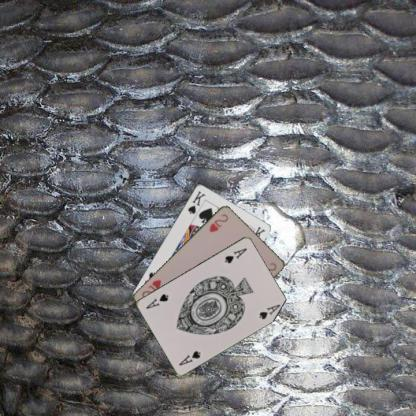2h: (206, 210, 230, 233)
As: (176, 348, 202, 367), (222, 246, 248, 264)
Ks: (185, 188, 207, 215)
